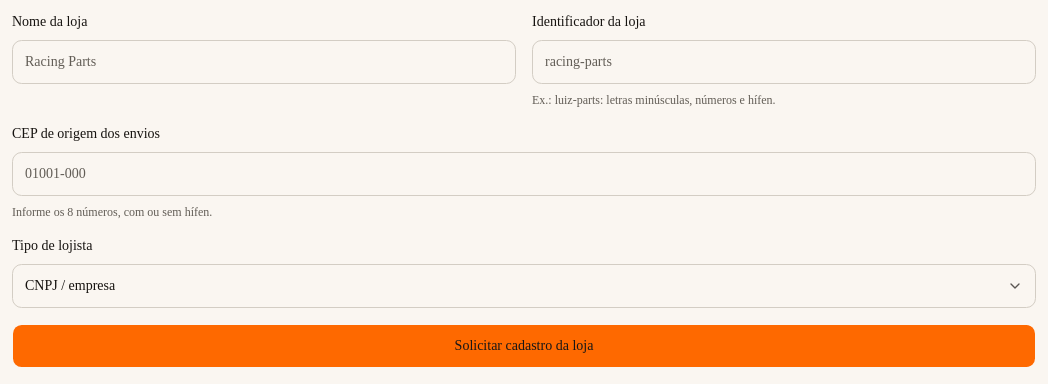
formats the origin CEP while typing
In the field labelled "CEP de origem dos envios": (524, 174) [12,152,1036,196], type "01001000"
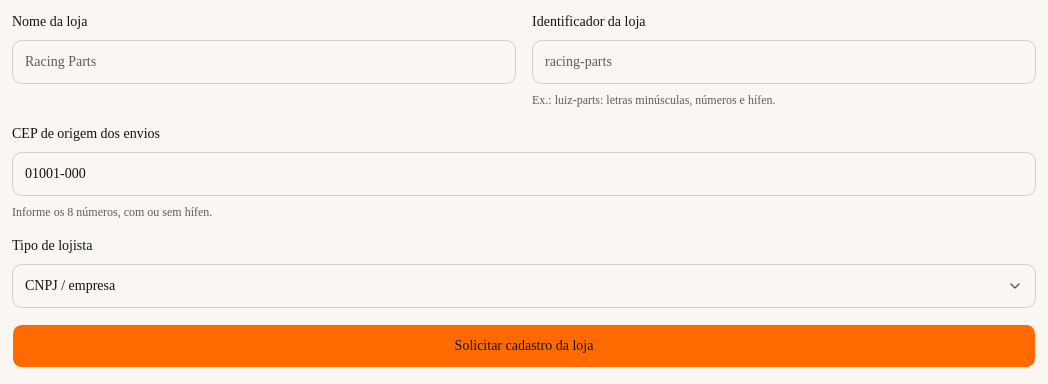
expect the field labelled "CEP de origem dos envios" holds "01001-000": met, box [12,152,1036,196]
